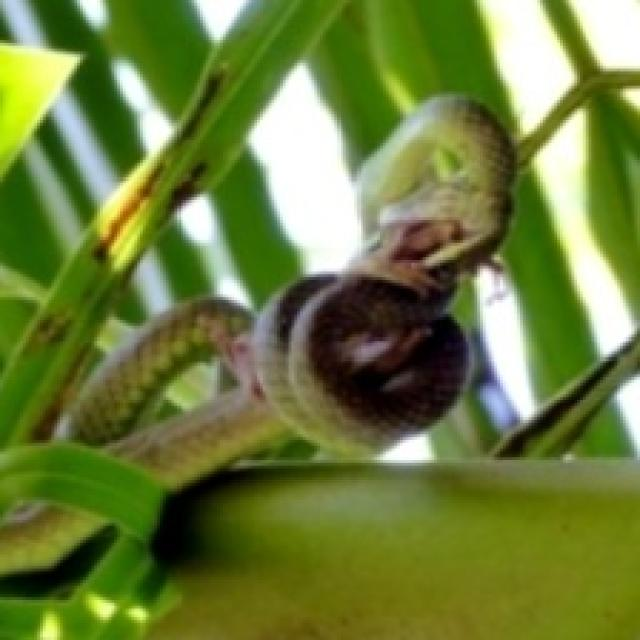paradise tree snake: (70, 99, 516, 491), (0, 506, 106, 574)
